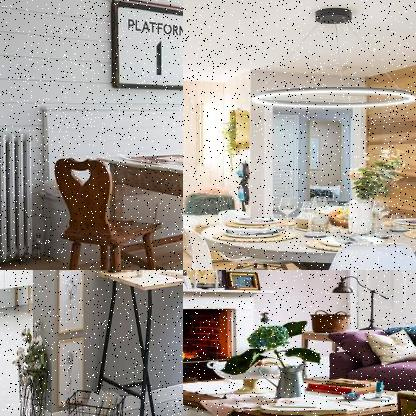table: (91, 270, 182, 415), (86, 137, 182, 269), (195, 212, 415, 269), (183, 364, 415, 415)
